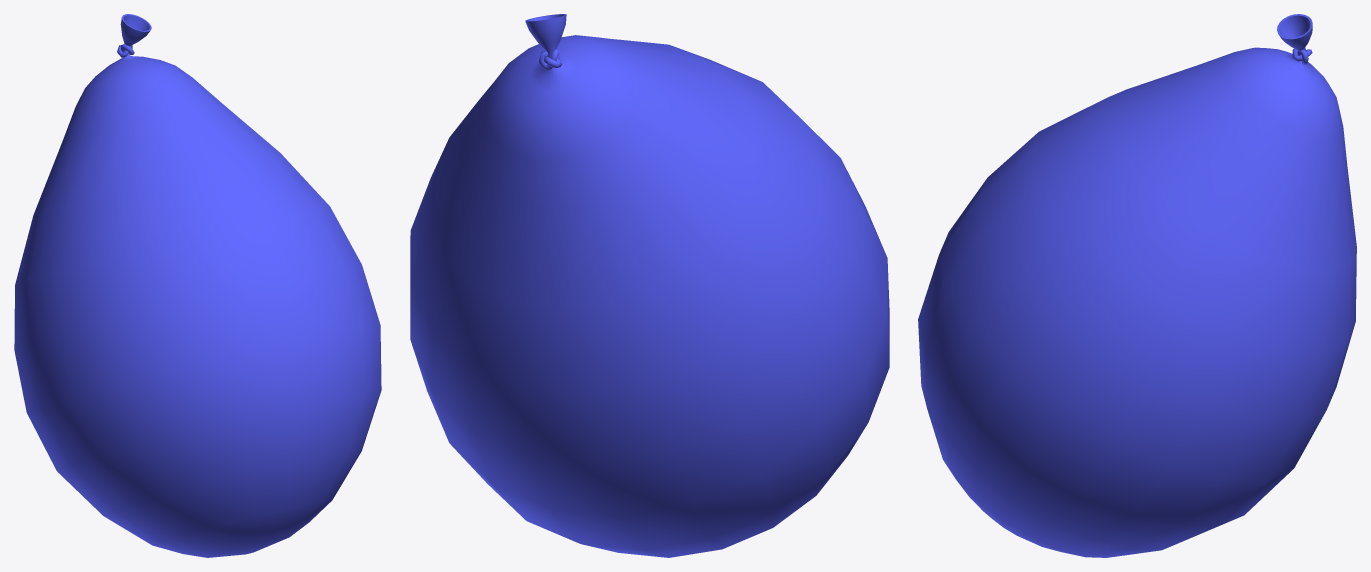
The model's file is globo1.obj.
The picture shows the model from 3 angles, left to right: view 1: azimuth 30°, elevation 25°; view 2: azimuth 150°, elevation 25°; view 3: azimuth 270°, elevation 25°; orthographic projection. The views are drawn at different scales.
Parts seen in each view (by area): view 1: Balloon013; view 2: Balloon013; view 3: Balloon013.
Part boxes in pixels (x1=…): Balloon013: x1=14, y1=14, x2=381, y2=557; Balloon013: x1=410, y1=14, x2=889, y2=557; Balloon013: x1=918, y1=14, x2=1356, y2=557.
Size of the model in its own units: 0.7334 by 1.01 by 0.7658.
